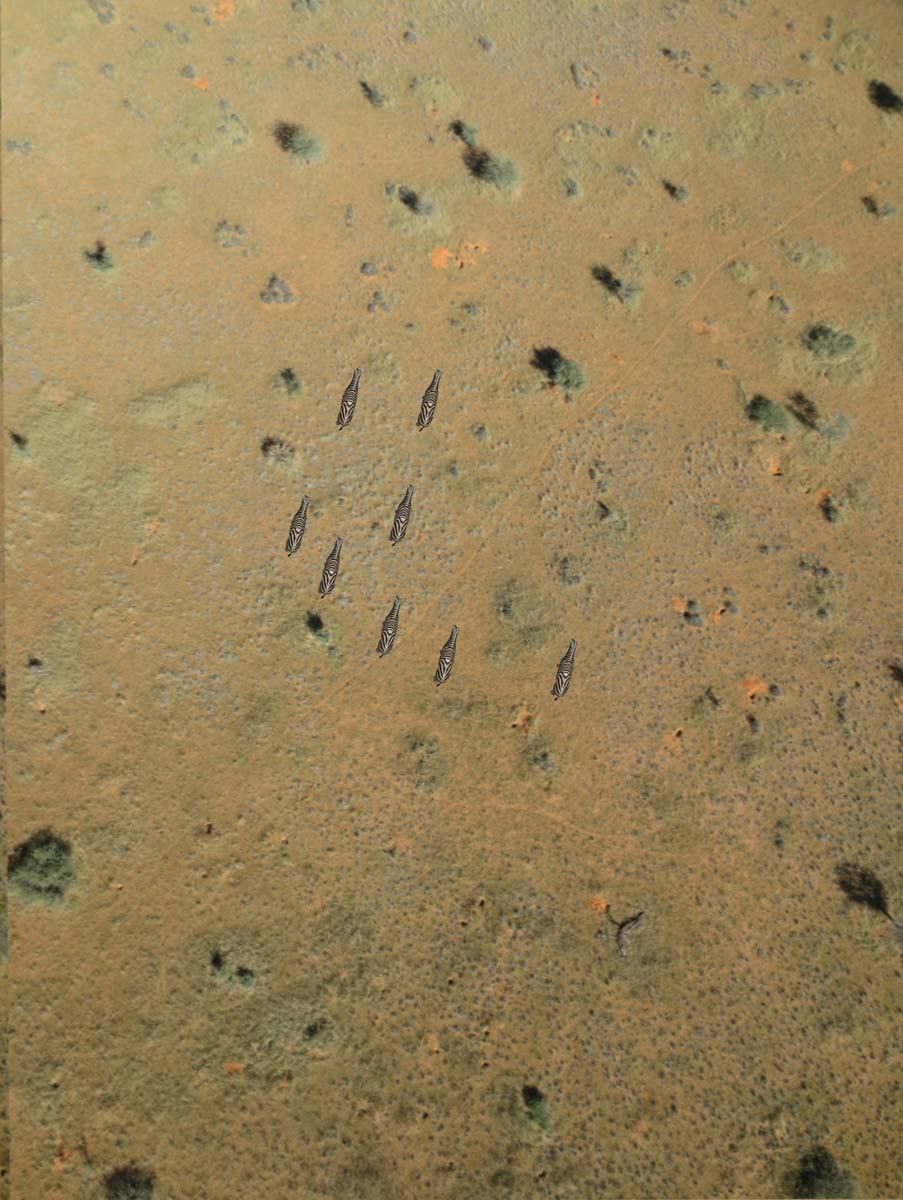zebra: (331, 364, 368, 432), (413, 360, 450, 428), (382, 478, 419, 546), (315, 529, 352, 597), (283, 492, 320, 560), (371, 595, 408, 663), (429, 618, 466, 686), (542, 634, 579, 702)
